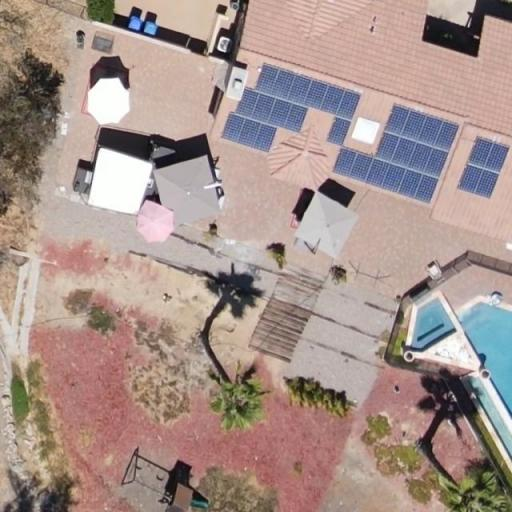solar-panel: (220, 61, 363, 154), (332, 103, 459, 204), (457, 136, 510, 198)
